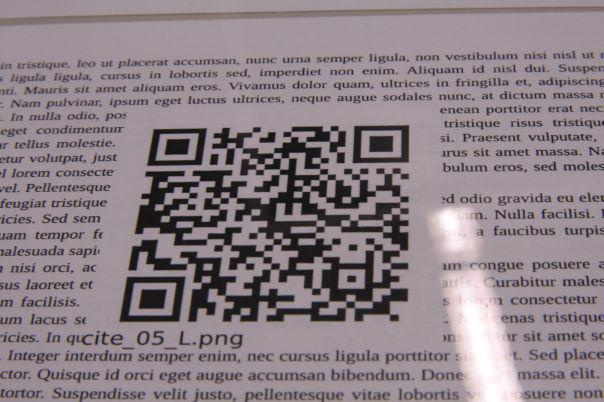Finder pattern: (116, 272, 190, 329), (348, 121, 414, 167), (147, 126, 208, 166)
